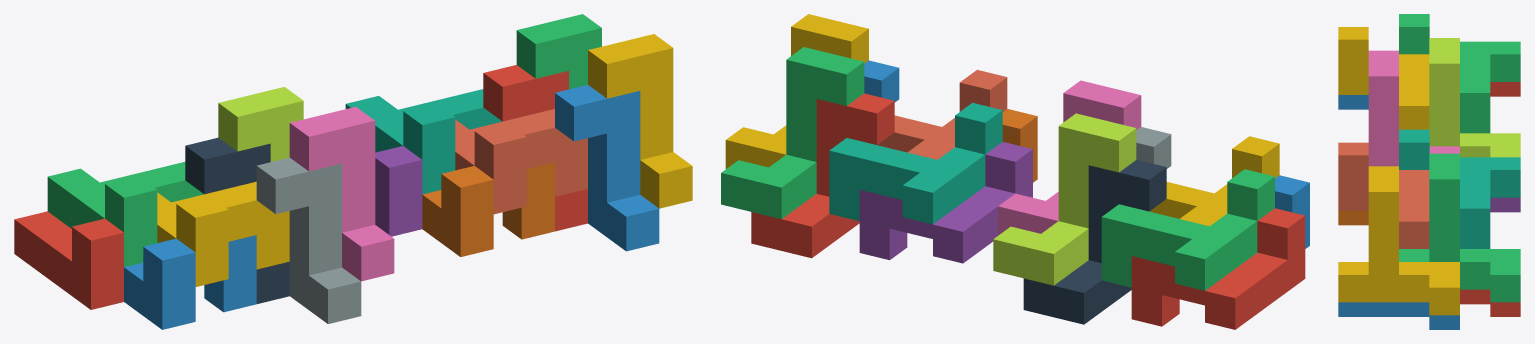
Rendered from tiling.obj.
3 views of the same model, side by side, from view 1: azimuth 30°, elevation 25°; view 2: azimuth 150°, elevation 25°; view 3: azimuth 270°, elevation 25° (orthographic). The views are drawn at different scales.
Parts seen in each view (by area): view 1: copy_2_domain_2, copy_2_domain_6, copy_2_domain_4, copy_2_domain_8, copy_1_domain_4, copy_1_domain_8, copy_1_domain_2, copy_1_domain_6, copy_1_domain_3, copy_1_domain_1, copy_1_domain_7, copy_2_domain_1 (+4 smaller); view 2: copy_1_domain_7, copy_1_domain_3, copy_2_domain_3, copy_2_domain_7, copy_1_domain_1, copy_1_domain_5, copy_2_domain_1, copy_2_domain_5, copy_2_domain_4, copy_2_domain_8, copy_1_domain_8, copy_1_domain_4 (+4 smaller); view 3: copy_2_domain_8, copy_2_domain_7, copy_1_domain_3, copy_1_domain_7, copy_2_domain_3, copy_1_domain_8, copy_1_domain_4, copy_2_domain_4, copy_2_domain_6, copy_2_domain_5, copy_1_domain_5, copy_1_domain_6 (+2 smaller).
Part boxes in pixels (box(x1,y1,x2,y2)): copy_2_domain_2: box(256, 157, 361, 323); copy_2_domain_6: box(555, 85, 659, 251); copy_2_domain_4: box(289, 106, 394, 281); copy_2_domain_8: box(588, 34, 692, 208); copy_1_domain_4: box(157, 181, 289, 286); copy_1_domain_8: box(455, 109, 587, 214); copy_1_domain_2: box(124, 235, 256, 329); copy_1_domain_6: box(422, 162, 554, 256); copy_1_domain_3: box(47, 162, 203, 267); copy_1_domain_1: box(14, 211, 123, 309); copy_1_domain_7: box(345, 89, 501, 194); copy_2_domain_1: box(185, 137, 289, 303); copy_1_domain_7: box(829, 102, 1002, 224); copy_1_domain_3: box(1101, 169, 1274, 290); copy_2_domain_3: box(993, 113, 1136, 285); copy_2_domain_7: box(721, 47, 864, 219); copy_1_domain_1: box(1131, 208, 1305, 329); copy_1_domain_5: box(859, 142, 1032, 263); copy_2_domain_1: box(1023, 160, 1166, 324); copy_2_domain_5: box(751, 93, 894, 258); copy_2_domain_4: box(998, 80, 1141, 235); copy_2_domain_8: box(725, 14, 868, 168); copy_1_domain_8: box(877, 70, 1007, 159); copy_1_domain_4: box(1149, 136, 1279, 226); copy_2_domain_8: box(1338, 166, 1459, 315); copy_2_domain_7: box(1399, 153, 1520, 302); copy_1_domain_3: box(1399, 14, 1520, 133); copy_1_domain_7: box(1399, 129, 1520, 248); copy_2_domain_3: box(1429, 38, 1520, 157); copy_1_domain_8: box(1338, 142, 1429, 248); copy_1_domain_4: box(1338, 27, 1429, 129); copy_2_domain_4: box(1368, 50, 1459, 166); copy_2_domain_6: box(1338, 302, 1459, 329); copy_2_domain_5: box(1460, 289, 1520, 316); copy_1_domain_5: box(1490, 197, 1520, 212); copy_1_domain_6: box(1338, 210, 1368, 225).
Size of the model in its own units: 18 by 5 by 6.
